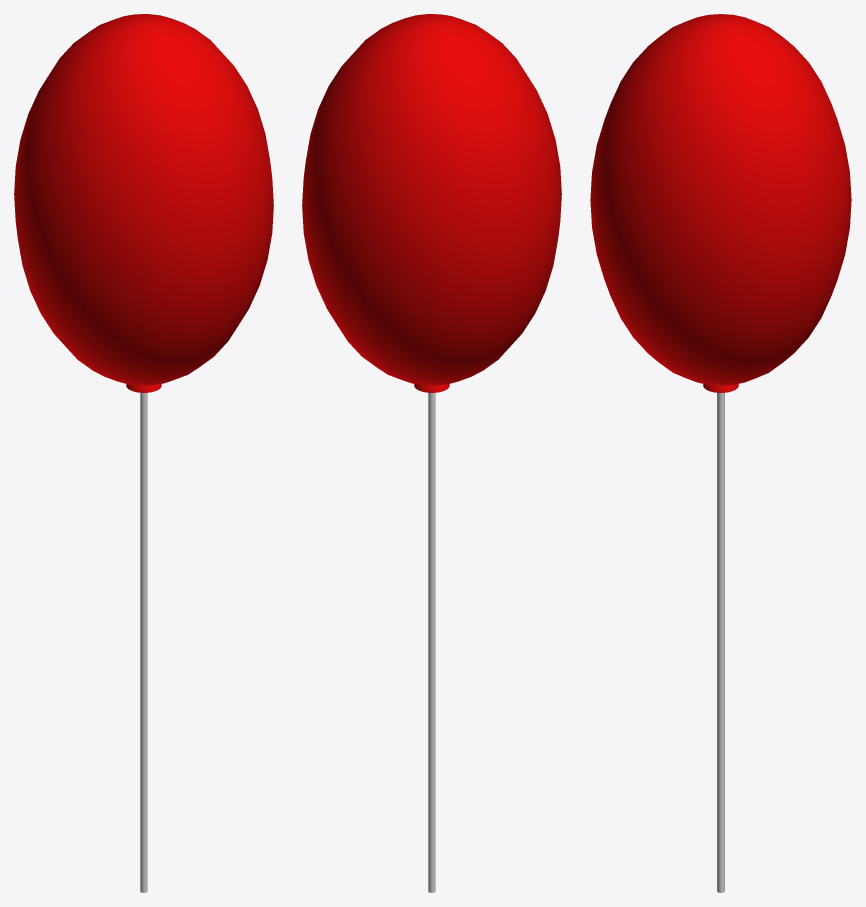
File: The Balloon.fbx
3 views of the same model, side by side, from view 1: azimuth 30°, elevation 25°; view 2: azimuth 150°, elevation 25°; view 3: azimuth 270°, elevation 25° (orthographic).
Parts seen in each view (by area): view 1: pSphere1, pCylinder1; view 2: pSphere1, pCylinder1; view 3: pSphere1, pCylinder1.
Part boxes in pixels (left/top/right/bottom): pSphere1: left=14, top=14, right=273, bottom=385; pCylinder1: left=140, top=392, right=147, bottom=892; pSphere1: left=302, top=14, right=561, bottom=385; pCylinder1: left=428, top=392, right=435, bottom=892; pSphere1: left=590, top=14, right=851, bottom=385; pCylinder1: left=717, top=392, right=724, bottom=892.
Bounding box in the file's own units: 4 × 14.68 × 4.
